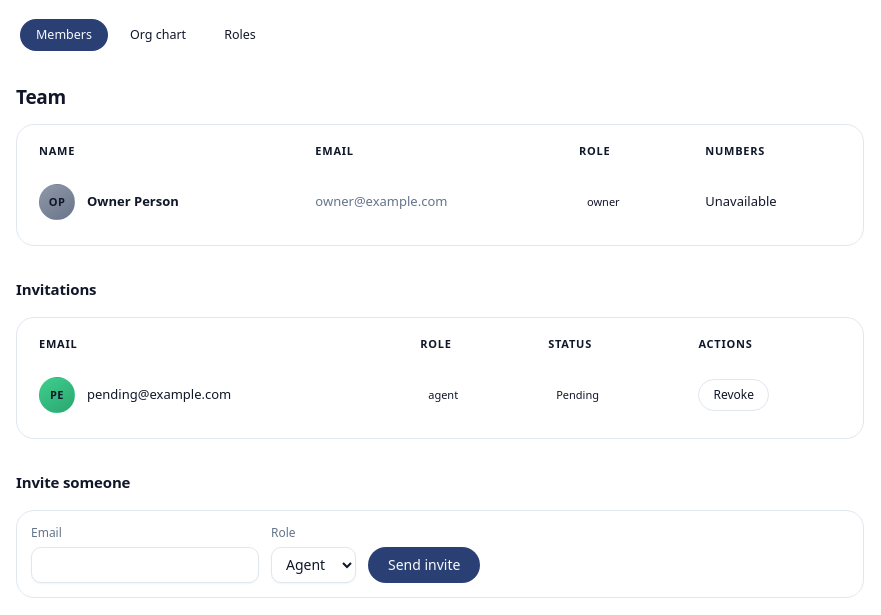
Test case: TeamPage › fetches roles only after switching to the Roles tab and lists them
Expected: the text "owner@example.com" is shown, [301, 173, 565, 231]
Click the tab "Roles" at (240,35), box [208, 19, 272, 51]
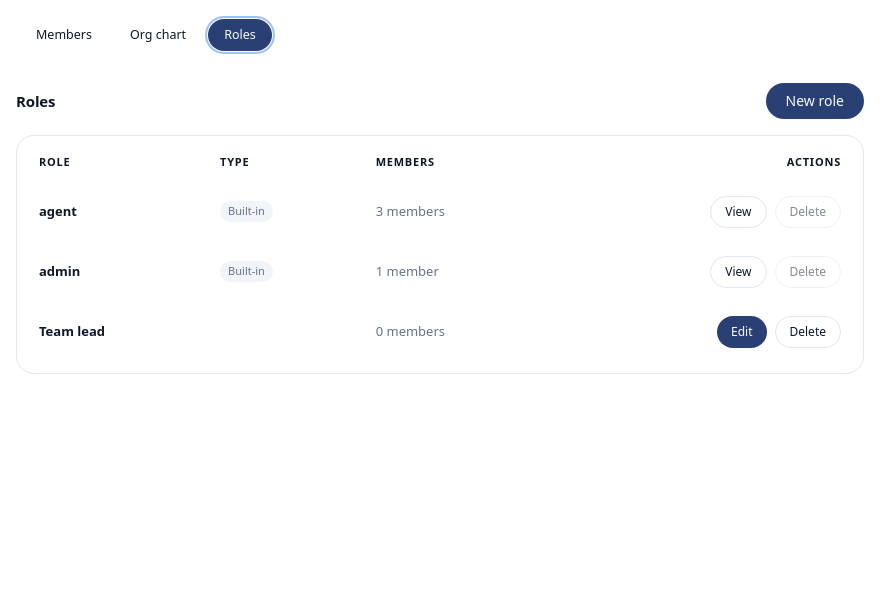
Expected: the text "Team lead" is shown, [25, 304, 206, 358]
Expected: the text "3 members" is shown, [362, 184, 549, 238]
Expected: the text "Built-in" is shown 2 times, [220, 201, 273, 222]; [220, 261, 273, 282]
